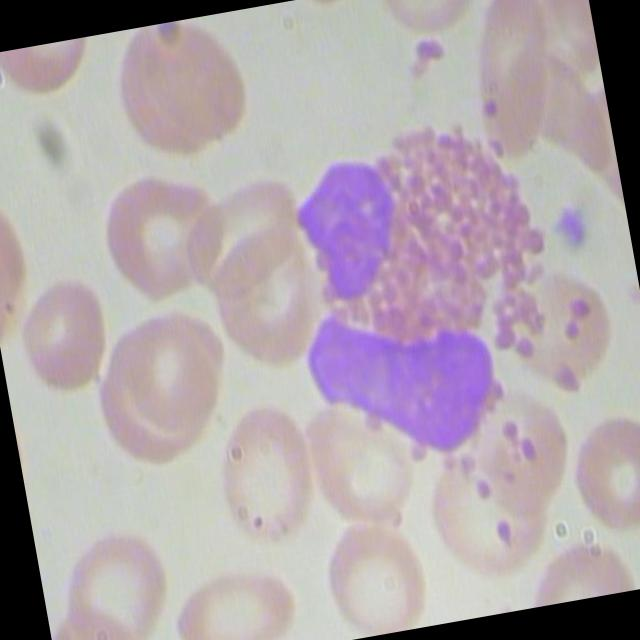Platelets: (543, 193, 605, 259)
RBC: (105, 9, 263, 168), (205, 389, 333, 560), (174, 156, 316, 304), (302, 380, 431, 536), (456, 0, 574, 166), (490, 264, 627, 406), (304, 505, 441, 640), (466, 384, 594, 523), (57, 511, 188, 640), (12, 268, 120, 396), (168, 556, 314, 640), (562, 404, 640, 539)
WBC: (274, 102, 590, 478)
